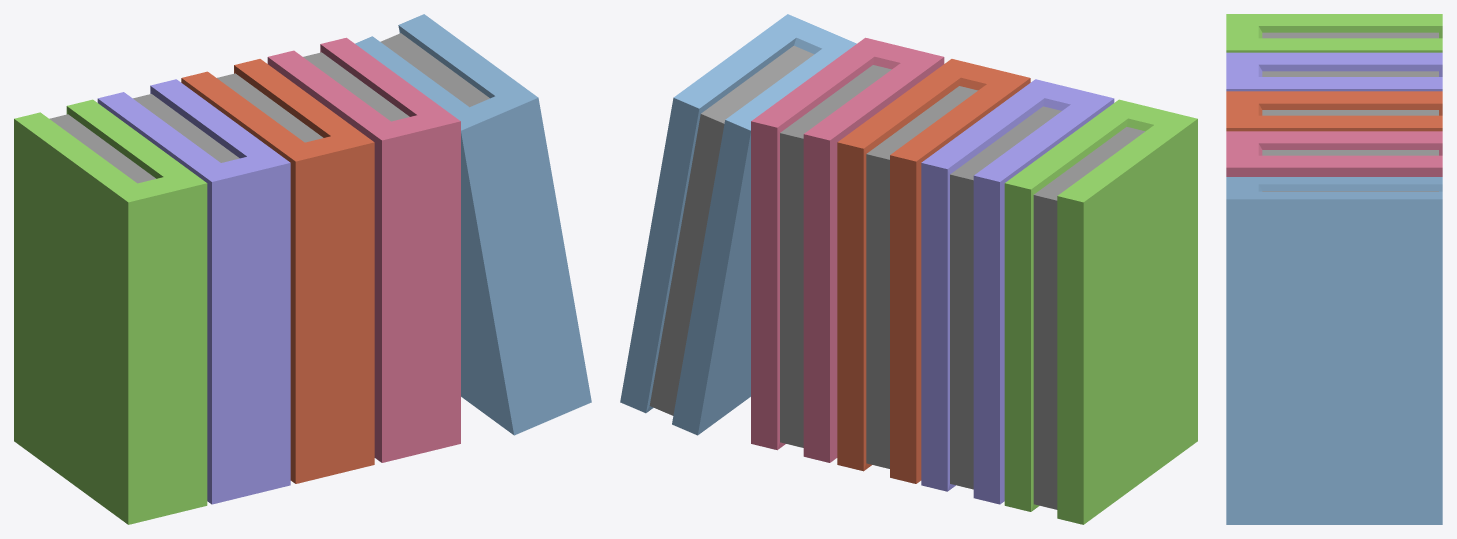
File: books.fbx
3 views of the same model, side by side, from view 1: azimuth 30°, elevation 25°; view 2: azimuth 150°, elevation 25°; view 3: azimuth 270°, elevation 25° (orthographic). The views are drawn at different scales.
Visible parts, largest first — view 1: books; view 2: books; view 3: books.
Boxes of the visible parts, x1,y1,x2,y2 form: books: (14, 14, 591, 524); books: (620, 14, 1197, 524); books: (1226, 14, 1442, 524).
Bounding box in the file's own units: 126 × 86.25 × 53.82.
